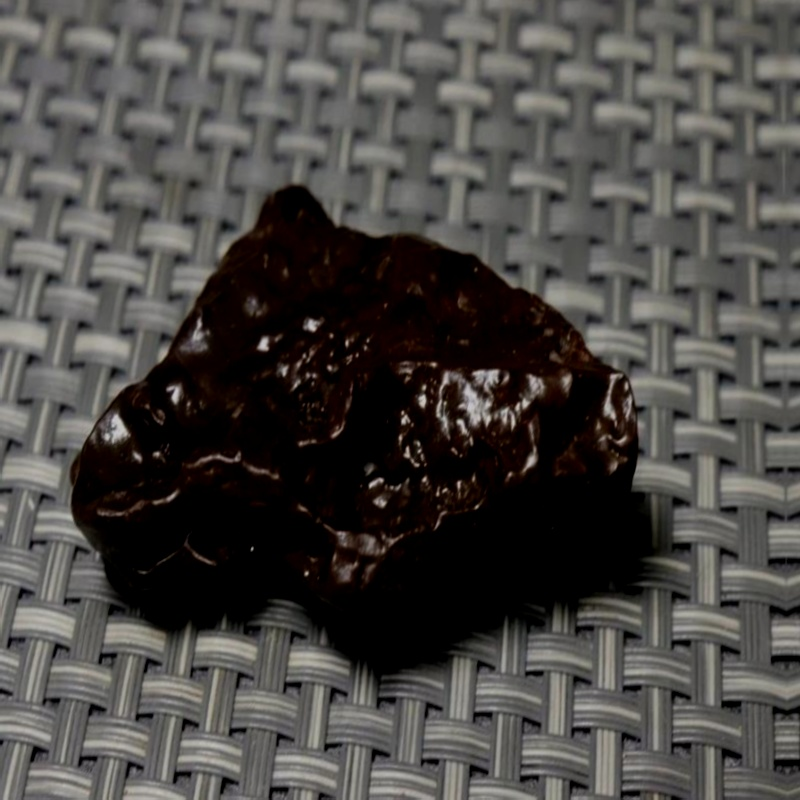halobolite: (54, 175, 653, 639)
